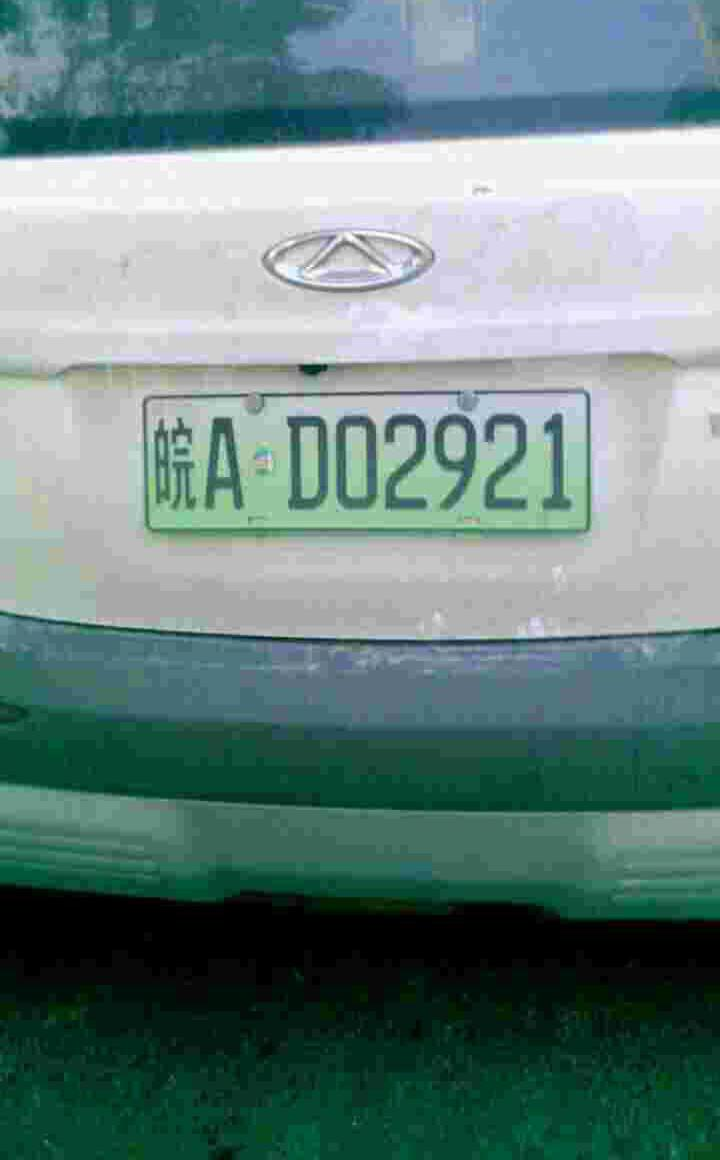car: (136, 386, 595, 534)
